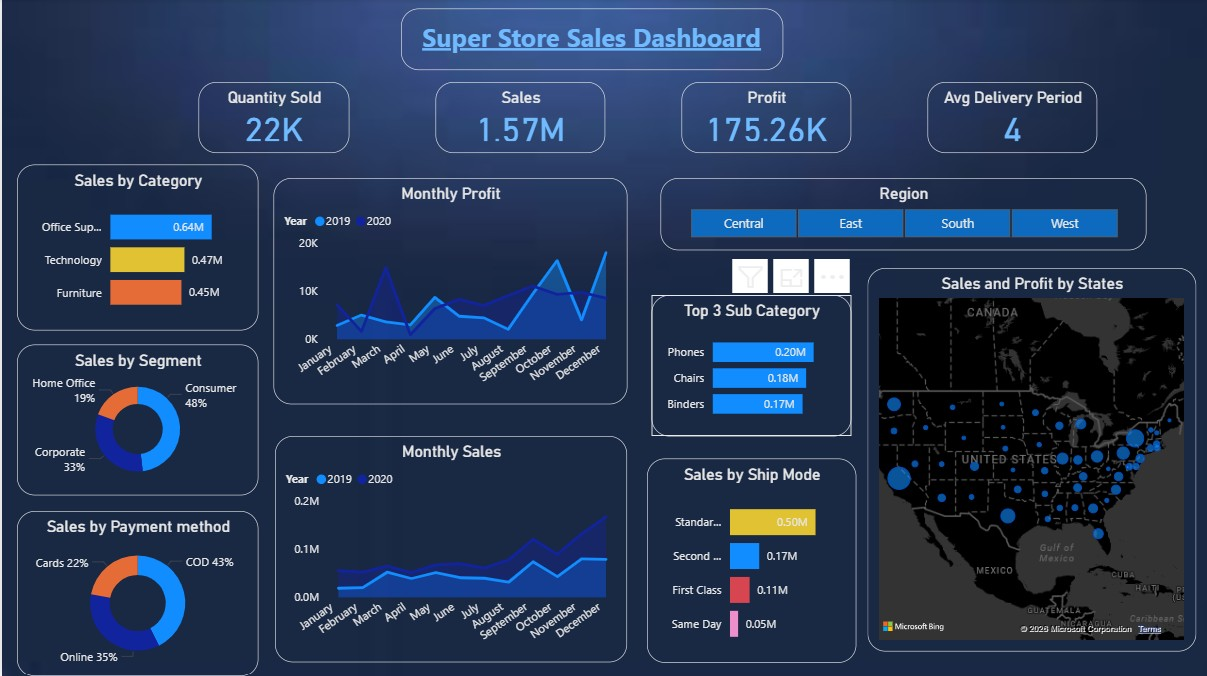

The page's visual inventory and layout, read from the dashboard file:
{"tool":"powerbi","page":{"name":"Page 1","canvas":[1280,720],"ordinal":0},"visuals":[{"type":"clusteredBarChart","title":" Sales by Category","fields":{"Category":["SuperStore_Sales_Dataset.Category"],"Y":["Sum(SuperStore_Sales_Dataset.Sales)"]},"box":[16,176,256,176],"z":0},{"type":"clusteredBarChart","title":"Top 3 Sub Category","fields":{"Category":["SuperStore_Sales_Dataset.Sub-Category"],"Y":["Sum(SuperStore_Sales_Dataset.Sales)"]},"box":[688.3,315,211.7,150],"z":1000},{"type":"clusteredBarChart","title":" Sales by Ship Mode","fields":{"Y":["Sum(SuperStore_Sales_Dataset.Sales)"],"Category":["SuperStore_Sales_Dataset.Ship Mode"]},"box":[683.3,488.3,221.7,216.7],"z":2000},{"type":"areaChart","title":"Monthly Sales","fields":{"Y":["Sum(SuperStore_Sales_Dataset.Sales)"],"Series":["SuperStore_Sales_Dataset.Order Date.Variation.Date Hierarchy.Year"],"Category":["SuperStore_Sales_Dataset.Order Date.Variation.Date Hierarchy.Month"]},"box":[290,465,373.3,240],"z":3000},{"type":"areaChart","title":"Monthly Profit","fields":{"Series":["SuperStore_Sales_Dataset.Order Date.Variation.Date Hierarchy.Year"],"Category":["SuperStore_Sales_Dataset.Order Date.Variation.Date Hierarchy.Month"],"Y":["Sum(SuperStore_Sales_Dataset.Profit)"]},"box":[288.3,191.7,375,240],"z":4000},{"type":"map","title":"Sales and  Profit by States","fields":{"Category":["SuperStore_Sales_Dataset.State"],"Size":["Sum(SuperStore_Sales_Dataset.Sales)"]},"box":[918.3,286.7,348.3,406.7],"z":5000},{"type":"donutChart","title":"Sales by Segment","fields":{"Category":["SuperStore_Sales_Dataset.Segment"],"Y":["Sum(SuperStore_Sales_Dataset.Sales)"]},"box":[16,368,256,160],"z":6000},{"type":"donutChart","title":"Sales by Payment method","fields":{"Y":["Sum(SuperStore_Sales_Dataset.Sales)"],"Category":["SuperStore_Sales_Dataset.Payment Mode"]},"box":[16,544,256,176],"z":7000},{"type":"slicer","title":"Region","fields":{"Values":["SuperStore_Sales_Dataset.Region"]},"box":[698.3,191.7,515,76.7],"z":8000},{"type":"textbox","box":[423.3,11.7,405,65],"z":9000},{"type":"card","title":"Sales","fields":{"Values":["Sum(SuperStore_Sales_Dataset.Sales)"]},"box":[460,88.3,180,75],"z":10000},{"type":"card","title":"Profit","fields":{"Values":["Sum(SuperStore_Sales_Dataset.Profit)"]},"box":[720,88.3,180,75],"z":11000},{"type":"card","title":"Quantity Sold","fields":{"Values":["Sum(SuperStore_Sales_Dataset.Quantity)"]},"box":[208.3,88.3,160,75],"z":12000},{"type":"card","title":"Avg Delivery Period","fields":{"Values":["Avg(SuperStore_Sales_Dataset.AvgDeliveryTime)"]},"box":[981.7,88.3,180,75],"z":13000}]}

Visuals, with their boxes in screenshot pixels (x1, y1, x2, y2), scaled from the page's 1280x720 canvas onto the 1207x676 screenshot:
" Sales by Category" clusteredBarChart: [15, 165, 256, 330]
"Top 3 Sub Category" clusteredBarChart: [649, 296, 849, 437]
" Sales by Ship Mode" clusteredBarChart: [644, 458, 853, 662]
"Monthly Sales" areaChart: [273, 437, 625, 662]
"Monthly Profit" areaChart: [272, 180, 625, 405]
"Sales and  Profit by States" map: [866, 269, 1194, 651]
"Sales by Segment" donutChart: [15, 346, 256, 496]
"Sales by Payment method" donutChart: [15, 511, 256, 675]
"Region" slicer: [658, 180, 1144, 252]
textbox: [399, 11, 781, 72]
"Sales" card: [434, 83, 604, 153]
"Profit" card: [679, 83, 849, 153]
"Quantity Sold" card: [196, 83, 347, 153]
"Avg Delivery Period" card: [926, 83, 1095, 153]
